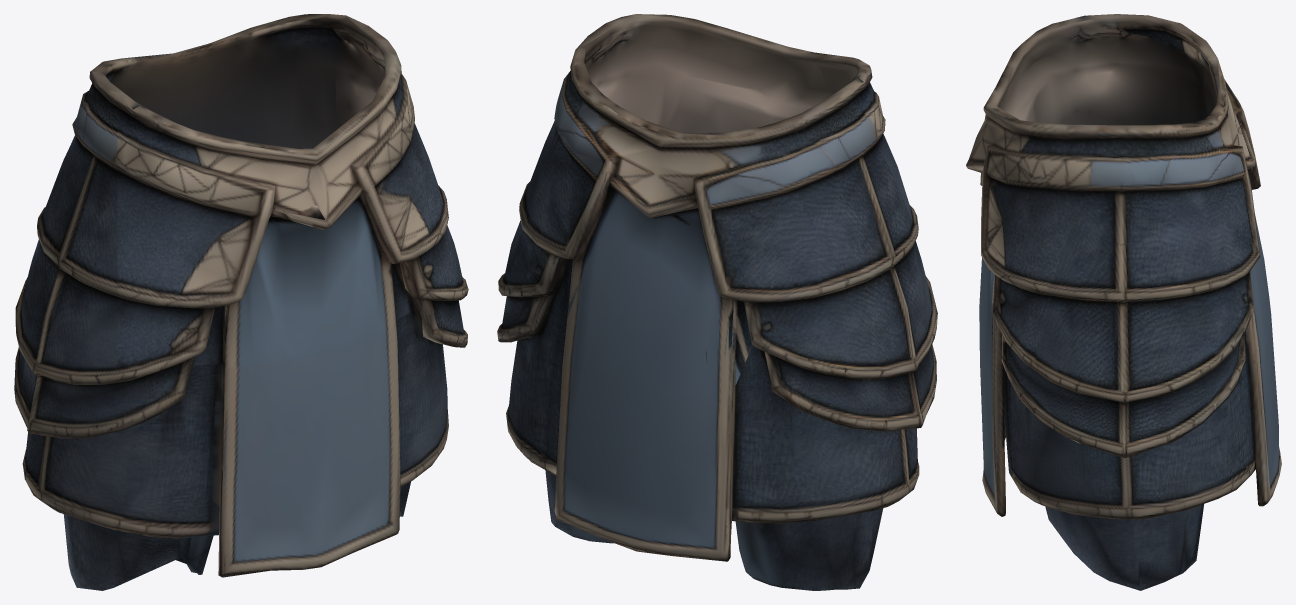
Rendered from DarkLegs.fbx.
The picture shows the model from 3 angles, left to right: view 1: azimuth 30°, elevation 25°; view 2: azimuth 150°, elevation 25°; view 3: azimuth 270°, elevation 25°; orthographic projection. The views are drawn at different scales.
Parts seen in each view (by area): view 1: GriffinPants; view 2: GriffinPants; view 3: GriffinPants.
Boxes of the visible parts, bbox=[...] form: GriffinPants: bbox=[14, 14, 468, 590]; GriffinPants: bbox=[497, 14, 937, 590]; GriffinPants: bbox=[966, 14, 1281, 590].
Size of the model in its own units: 29.99 by 33.48 by 21.21.
Materials: 1 (1 with a texture image).
